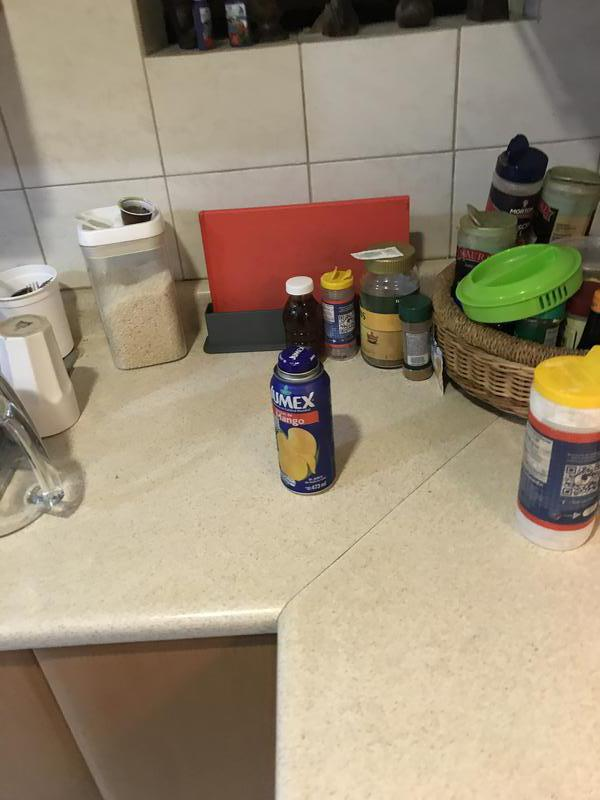jugo_jumex: (271, 345, 339, 495)
